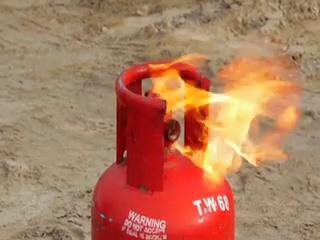Fire: (120, 27, 261, 178)
